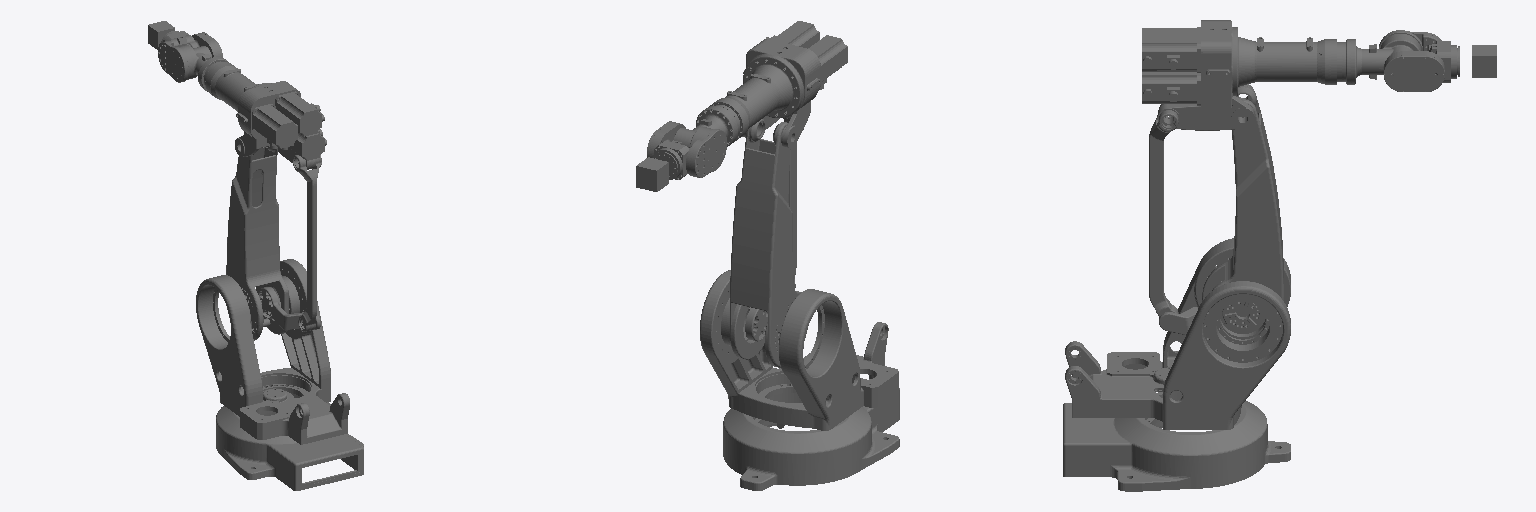
URDF robot description (x50):
<?xml version="1.0"?>
<robot name="x50">

	<material name="white">
		<color rgba="0.5 0.5 0.5 1"/>
	</material>

	<link name="root">
		<visual>
			<geometry>
				<mesh filename="package://x50_description/meshes/RBase.stl" scale="0.001 0.001 0.001"/>
			</geometry>
			<origin rpy="0 0 0" xyz="0 0 0"/>
			<material name="white" />
		</visual>
		<collision>
			<geometry>
				<mesh filename="package://x50_description/meshes/RBase.stl" scale="0.001 0.001 0.001"/>
			</geometry>
			<origin rpy="0 0 0" xyz="0 0 0"/>
		</collision>
	</link>

	<link name="link1">
		<visual>
			<geometry>
				<mesh filename="package://x50_description/meshes/RLink1.stl" scale="0.001 0.001 0.001"/>
			</geometry>
			<origin rpy="0 0 0" xyz="0 0 0"/>
			<material name="white" />
		</visual>
		<collision>
			<geometry>
				<mesh filename="package://x50_description/meshes/RLink1.stl" scale="0.001 0.001 0.001"/>
			</geometry>
			<origin rpy="0 0 0" xyz="0 0 0"/>
		</collision>
	</link>

	<link name="link2">
		<visual>
			<geometry>
				<mesh filename="package://x50_description/meshes/RLink2.stl" scale="0.001 0.001 0.001"/>
			</geometry>
			<origin rpy="0 0 0" xyz="0 0 0"/>
			<material name="white" />
		</visual>
		<collision>
			<geometry>
				<mesh filename="package://x50_description/meshes/RLink2.stl" scale="0.001 0.001 0.001"/>
			</geometry>
			<origin rpy="0 0 0" xyz="0 0 0"/>
		</collision>
	</link>

	<link name="link3">
		<visual>
			<geometry>
				<mesh filename="package://x50_description/meshes/RLink3.stl" scale="0.001 0.001 0.001"/>
			</geometry>
			<origin rpy="0 0 0" xyz="0 0 0"/>
			<material name="white" />
		</visual>
		<collision>
			<geometry>
				<mesh filename="package://x50_description/meshes/RLink3.stl" scale="0.001 0.001 0.001"/>
			</geometry>
			<origin rpy="0 0 0" xyz="0 0 0"/>
		</collision>
	</link>

	<link name="link4">
		<visual>
			<geometry>
				<mesh filename="package://x50_description/meshes/RLink4.stl" scale="0.001 0.001 0.001"/>
			</geometry>
			<origin rpy="0 0 0" xyz="0 0 0"/>
			<material name="white" />
		</visual>
		<collision>
			<geometry>
				<mesh filename="package://x50_description/meshes/RLink4.stl" scale="0.001 0.001 0.001"/>
			</geometry>
			<origin rpy="0 0 0" xyz="0 0 0"/>
		</collision>
	</link>

	<link name="link5">
		<visual>
			<geometry>
				<mesh filename="package://x50_description/meshes/RLink5.stl" scale="0.001 0.001 0.001"/>
			</geometry>
			<origin rpy="0 0 0" xyz="0 0 0"/>
			<material name="white" />
		</visual>
		<collision>
			<geometry>
				<mesh filename="package://x50_description/meshes/RLink5.stl" scale="0.001 0.001 0.001"/>
			</geometry>
			<origin rpy="0 0 0" xyz="0 0 0"/>
		</collision>
	</link>

	<link name="link6">
	</link>

	<link name="linkB1">
		<visual>
			<geometry>
				<mesh filename="package://x50_description/meshes/RLinkB1.stl" scale="0.001 0.001 0.001"/>
			</geometry>
			<origin rpy="0.19 0 0" xyz="0 0 0"/>
			<material name="white" />
		</visual>
		<collision>
			<geometry>
				<mesh filename="package://x50_description/meshes/RLinkB1.stl" scale="0.001 0.001 0.001"/>
			</geometry>
			<origin rpy="0 0 0" xyz="0 0 0"/>
		</collision>
	</link>

	<link name="linkB2">
		<visual>
			<geometry>
				<mesh filename="package://x50_description/meshes/RLinkB2.stl" scale="0.001 0.001 0.001"/>
			</geometry>
			<origin rpy="0 0 0" xyz="0 0 0"/>
			<material name="white" />
		</visual>
		<collision>
			<geometry>
				<mesh filename="package://x50_description/meshes/RLinkB2.stl" scale="0.001 0.001 0.001"/>
			</geometry>
			<origin rpy="0 0 0" xyz="0 0 0"/>
		</collision>
	</link>

	<link name="tool">
		<visual>
			<geometry>
				<box size="0.1 0.1 0.1"/>
			</geometry>
			<origin rpy="0 0 0" xyz="0 0 0"/>
			<material name="white" />
		</visual>
		<collision>
			<geometry>
				<box size="0.1 0.1 0.1"/>
			</geometry>
			<origin rpy="0 0 0" xyz="0 0 0"/>
		</collision>
	</link>

	<joint name="joint1" type="continuous">
		<parent link="root"/>
		<child link="link1"/>
		<origin xyz="0 0 0.23" rpy="0 0 0" />
		<axis xyz="0 0 1" />
		<limit effort="2548.0" velocity="1.7453" lower="-2.9671" upper="2.9671" />
	</joint>

	<joint name="joint2" type="continuous">
		<parent link="link1"/>
		<child link="link2"/>
		<origin xyz="0 0.200 0.449" rpy="0 0 0" />
		<axis xyz="1 0 0" />
		<limit effort="3136.0" velocity="1.7453" lower="-1.2217" upper="1.2217" />
	</joint>

	<joint name="joint3" type="continuous">
		<parent link="link2"/>
		<child link="link3"/>
		<origin xyz="0 0 0.890" rpy="0 0 0" />
		<axis xyz="1 0 0" />
		<limit effort="1225.0" velocity="1.7453" lower="-1.1345" upper="1.1345" />
	</joint>

	<joint name="joint4" type="continuous">
		<parent link="link3"/>
		<child link="link4"/>
		<origin xyz="0 0.4369 0.195" rpy="0 0 0" />
		<axis xyz="0 1 0" />
		<limit effort="588.0" velocity="3.4907" lower="-6.2832" upper="6.2832" />
	</joint>

	<joint name="joint5" type="continuous">
		<parent link="link4"/>
		<child link="link5"/>
		<origin xyz="0 0.1995 0" rpy="0 0 0" />
		<axis xyz="1 0 0" />
		<limit effort="412.0" velocity="3.8397" lower="-2.1817" upper="2.1817" />
	</joint>

	<joint name="joint6" type="continuous">
		<parent link="link5"/>
		<child link="link6"/>
		<origin xyz="0 0.238 0" rpy="0 0 0" />
		<axis xyz="0 1 0" />
		<limit effort="1000.0" velocity="0.5" lower="0.0" upper="0.548" />
	</joint>

	<joint name="joint7" type="continuous">
		<parent link="link1"/>
		<child link="linkB1"/>
		<origin xyz="0.07  0.200 0.449" rpy="0 0 0" />
		<axis xyz="1 0 0" />
		<limit effort="1000.0" velocity="0.5" lower="0.0" upper="0.548" />
	</joint>

	<joint name="joint8" type="continuous">
		<parent link="linkB1"/>
		<child link="linkB2"/>
		<origin xyz="0.03 -0.300 0" rpy="0 0 0" />
		<axis xyz="1 0 0" />
		<limit effort="1000.0" velocity="0.5" lower="0.0" upper="0.548" />
	</joint>

	<joint name="jointT" type="fixed">
		<parent link="link6"/>
		<child link="tool"/>
		<origin xyz="0 0.1 0" rpy="0 0 0" />
	</joint>
	
</robot>

--- Facts derived from the render (not from the file) ---
Views: 3 orthographic renders of the robot side by side, from view 1: azimuth 30°, elevation 25°; view 2: azimuth 150°, elevation 25°; view 3: azimuth 270°, elevation 25°.
Model x50 with 10 links and 9 joints (8 continuous, 1 fixed), rooted at root, posed every joint at zero.
Links seen in each view (by area): view 1: link1, link2, link3, root, linkB2, link5, linkB1, link4; view 2: link1, link2, root, link3, link5, link4, tool, linkB2, linkB1; view 3: link1, link3, root, link2, link5, linkB2, link4, linkB1, tool.
Boxes of the visible links, bbox=[...] form: link1: bbox=[196, 259, 349, 444]; link2: bbox=[226, 146, 288, 340]; link3: bbox=[200, 58, 326, 169]; root: bbox=[216, 393, 363, 490]; linkB2: bbox=[293, 155, 321, 331]; link5: bbox=[158, 31, 222, 82]; linkB1: bbox=[258, 287, 320, 329]; link4: bbox=[179, 45, 225, 86]; link1: bbox=[700, 270, 898, 430]; link2: bbox=[730, 119, 807, 367]; root: bbox=[723, 378, 899, 490]; link3: bbox=[706, 21, 847, 148]; link5: bbox=[647, 121, 726, 179]; link4: bbox=[674, 107, 735, 147]; tool: bbox=[636, 157, 668, 191]; linkB2: bbox=[783, 118, 796, 288]; linkB1: bbox=[745, 307, 767, 341]; link1: bbox=[1065, 238, 1290, 429]; link3: bbox=[1142, 20, 1350, 130]; root: bbox=[1063, 392, 1290, 491]; link2: bbox=[1202, 86, 1283, 340]; link5: bbox=[1379, 30, 1459, 91]; linkB2: bbox=[1149, 104, 1178, 317]; link4: bbox=[1351, 34, 1421, 84]; linkB1: bbox=[1159, 301, 1262, 334]; tool: bbox=[1472, 45, 1496, 77].
Size in the robot's own frame: 0.67 by 1.75 by 1.9 metres.
Meshes: 8 distinct files referenced, 8 mesh visuals loaded (8 binary STL).